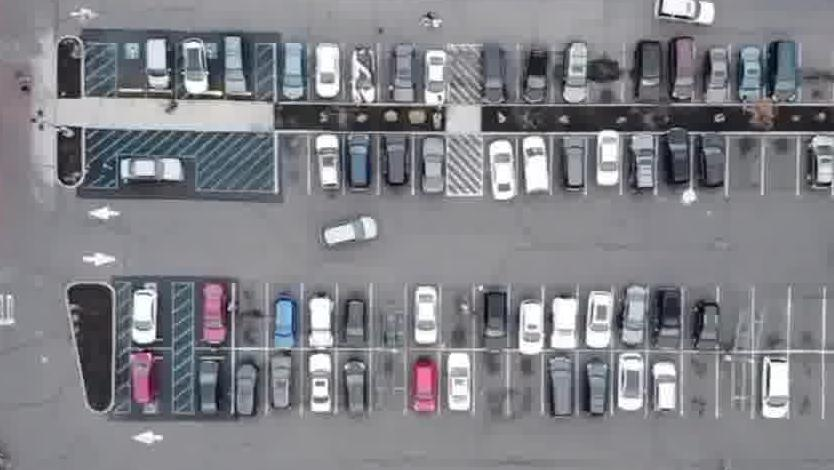car: (440, 354, 478, 421), (757, 353, 792, 423), (770, 41, 806, 106), (633, 47, 668, 112), (486, 137, 521, 202), (120, 154, 191, 186), (651, 0, 715, 35), (670, 43, 701, 112), (694, 137, 730, 196), (302, 355, 335, 419), (546, 359, 578, 425), (616, 350, 650, 412), (317, 214, 377, 249), (314, 134, 347, 197), (663, 137, 696, 200), (582, 356, 614, 419), (480, 288, 511, 353), (481, 47, 512, 111), (522, 142, 555, 202), (517, 296, 551, 354), (653, 285, 684, 348), (648, 355, 679, 418), (558, 138, 590, 199), (200, 280, 230, 345), (411, 280, 440, 345), (563, 46, 591, 113), (340, 359, 371, 419), (410, 359, 441, 419), (549, 294, 581, 352), (183, 38, 216, 94), (585, 289, 615, 350), (420, 139, 449, 201), (382, 136, 412, 195), (345, 134, 374, 195), (308, 296, 339, 353), (313, 38, 342, 98), (393, 45, 422, 105), (234, 360, 262, 422), (145, 36, 176, 92), (632, 140, 661, 199), (128, 351, 157, 410), (223, 38, 252, 96), (740, 49, 769, 107), (805, 139, 834, 197), (691, 297, 721, 353), (197, 357, 224, 419), (132, 287, 160, 346), (282, 40, 309, 101), (525, 52, 551, 115), (426, 51, 453, 111), (621, 282, 646, 346), (352, 49, 380, 106), (270, 354, 297, 413), (595, 132, 621, 193), (270, 297, 299, 350), (707, 50, 732, 111), (345, 300, 369, 353)
